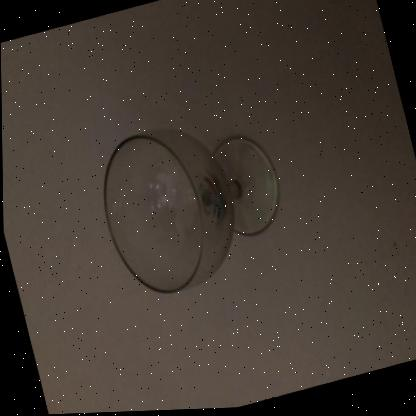Glass: (103, 131, 278, 295)
